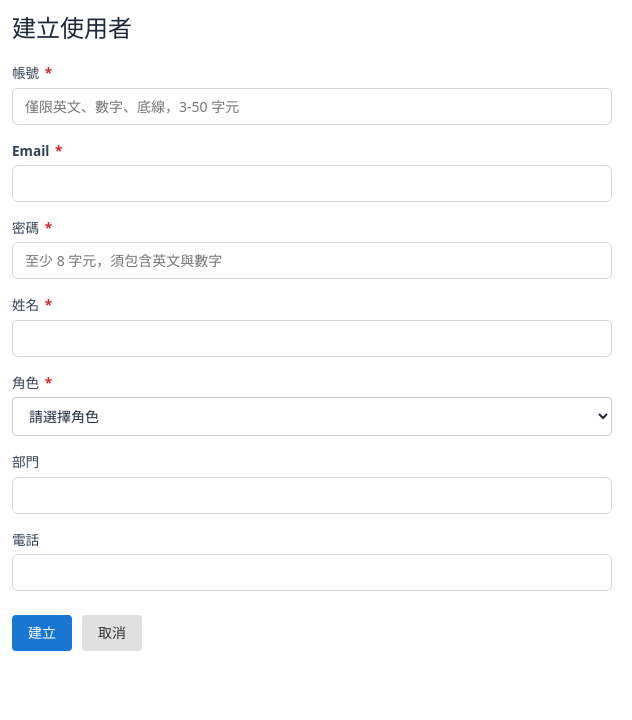
Scenario: UserCreatePage › validates password at least 8 chars and must contain letter and digit
Type "newuser" into the field labelled "帳號 *" at [312, 106], box [12, 88, 612, 125]
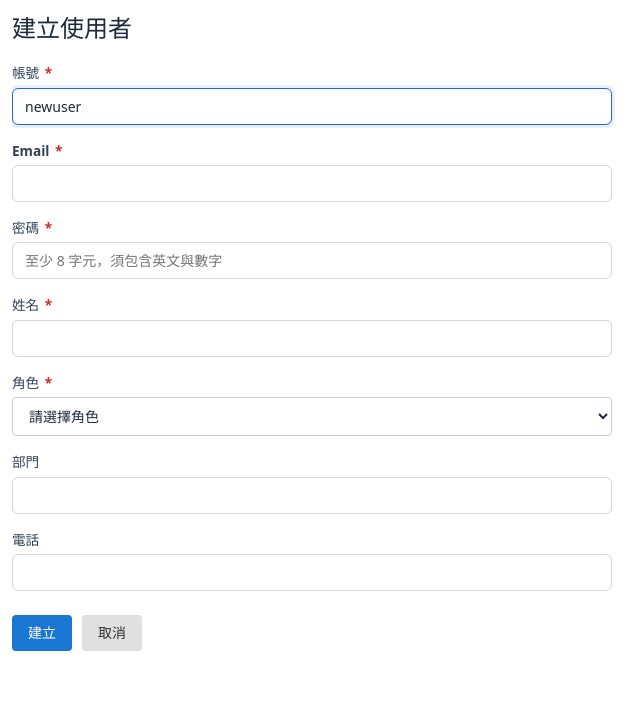
Type "a@t.com" into the field labelled "Email *" at [312, 184], box [12, 165, 612, 202]
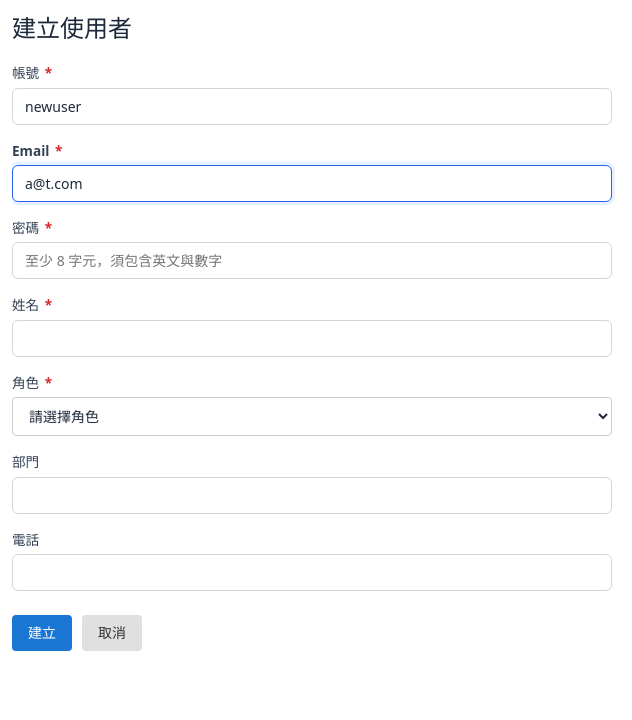
Type "12345678" into the password field labelled "密碼 *" at [312, 261], box [12, 242, 612, 279]
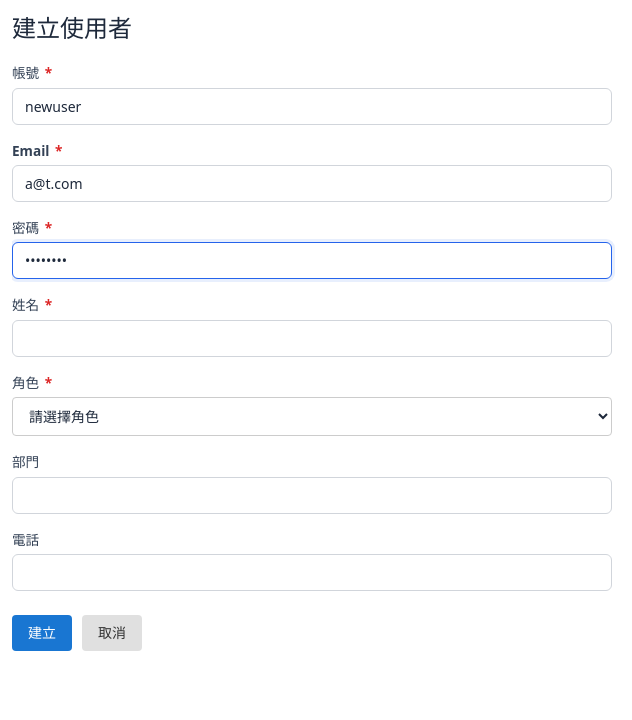
Type "Test" into the field labelled "姓名 *" at [312, 338], box [12, 320, 612, 357]
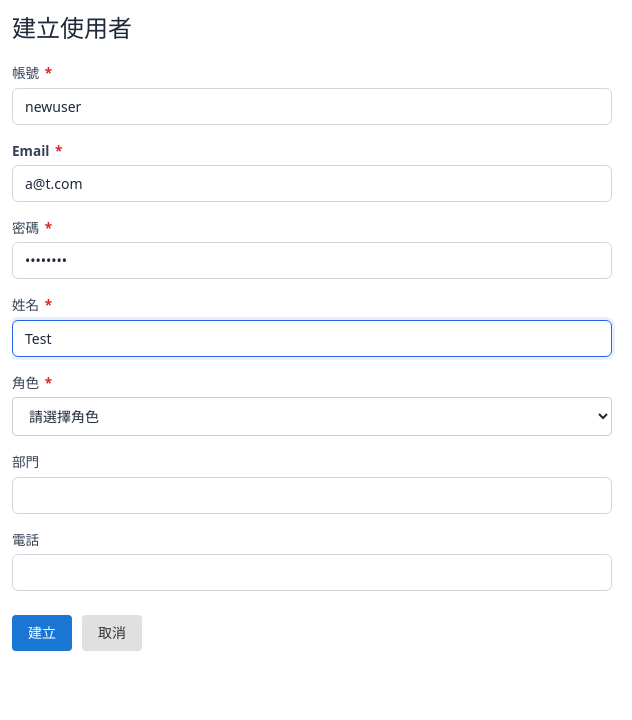
Select "Administrator" in the dropdown labelled "角色 *" at [312, 417], box [12, 397, 612, 436]
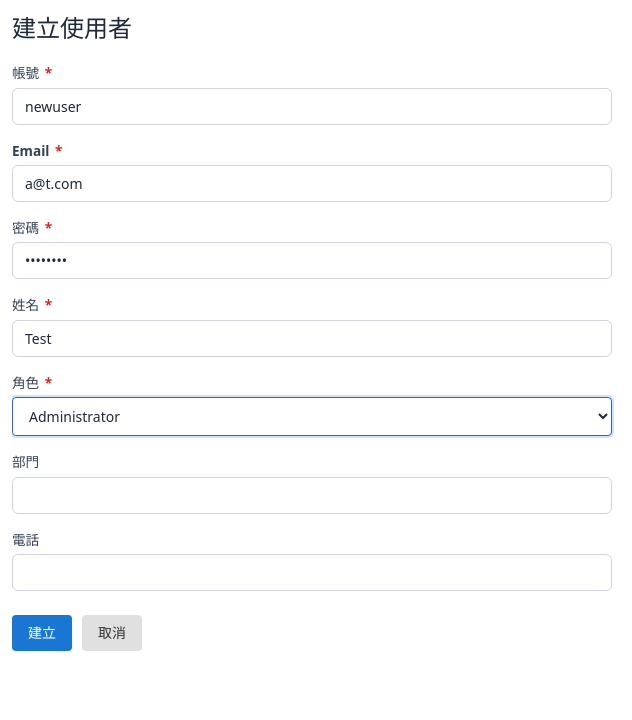
Click the button "建立" at [42, 633], box [12, 615, 72, 650]
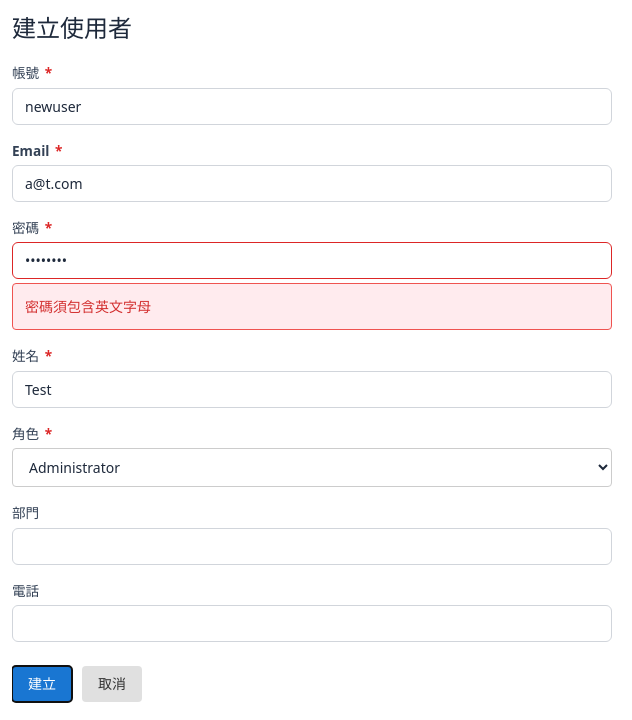
Check: the text "密碼須包含英文字母" is shown, box [12, 283, 612, 330]
